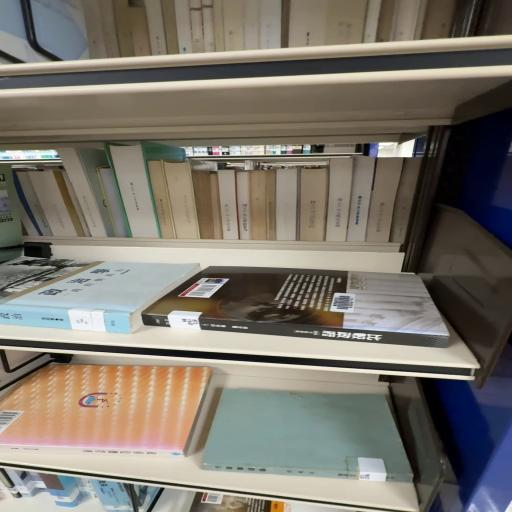flat: (144, 267, 450, 349), (203, 390, 413, 484), (1, 366, 212, 459), (1, 258, 201, 334)
